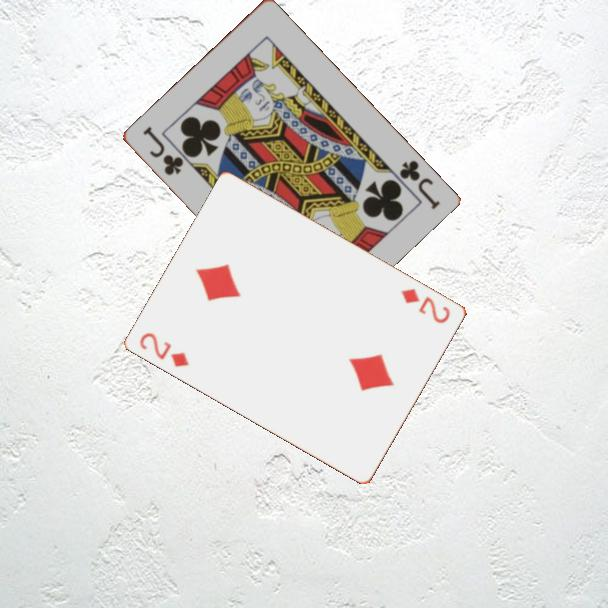c11: (139, 122, 186, 179), (395, 157, 443, 212)
d02: (398, 285, 454, 326), (136, 329, 192, 370)
